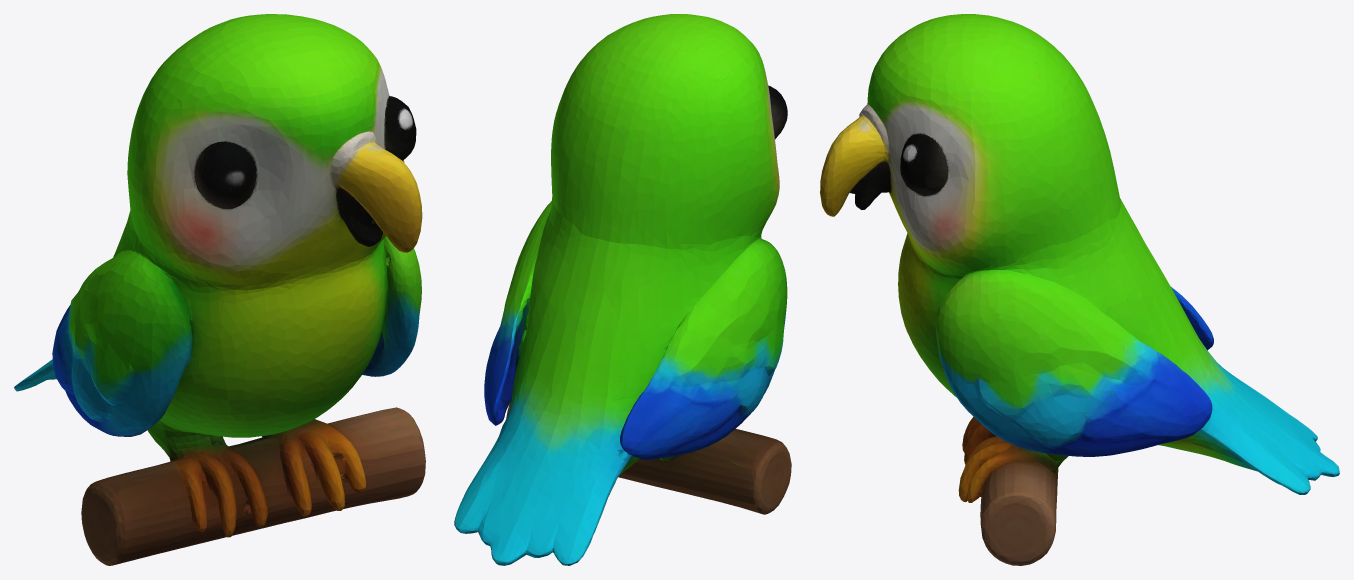
The model's file is parrot.glb.
The picture shows the model from 3 angles, left to right: view 1: azimuth 30°, elevation 25°; view 2: azimuth 150°, elevation 25°; view 3: azimuth 270°, elevation 25°; orthographic projection. The views are drawn at different scales.
Parts seen in each view (by area): view 1: geometry_0; view 2: geometry_0; view 3: geometry_0.
Part boxes in pixels (box(x1,y1,x2,y2)): geometry_0: box(14, 14, 425, 565); geometry_0: box(454, 14, 791, 565); geometry_0: box(820, 14, 1339, 565).
Size of the model in its own units: 0.6135 by 0.9955 by 0.9971.
Materials: 1 (1 with a texture image).
